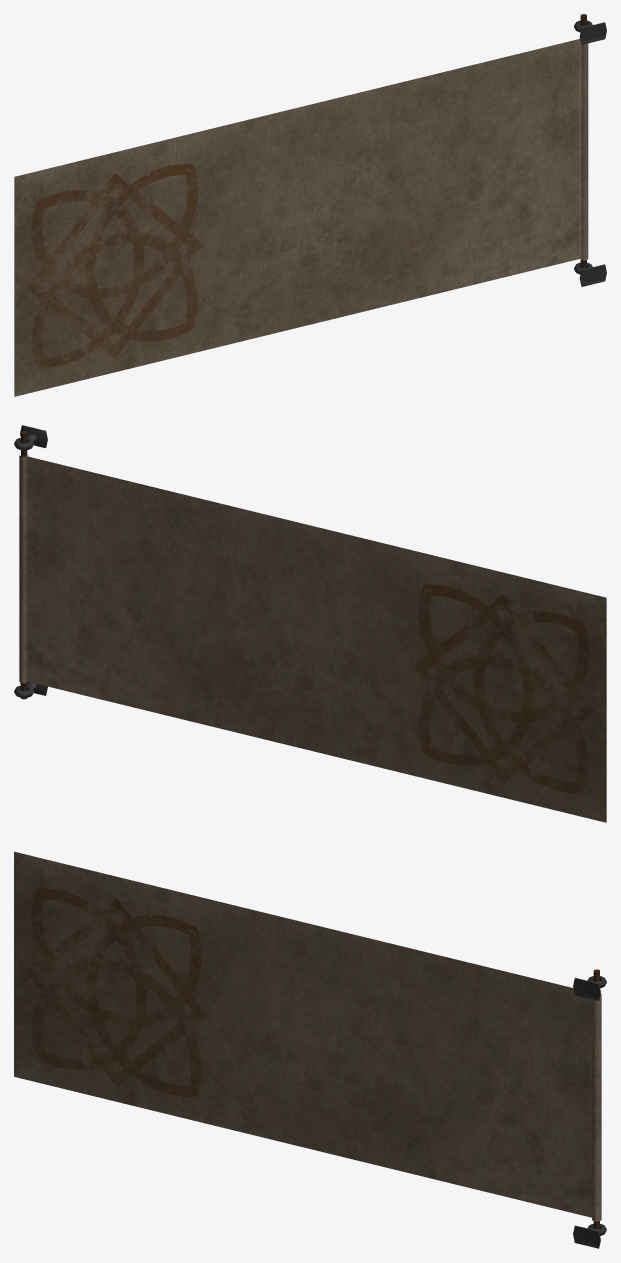
File: HangingFlag.glb
The picture shows the model from 3 angles, top to bottom: view 1: azimuth 30°, elevation 25°; view 2: azimuth 150°, elevation 25°; view 3: azimuth 330°, elevation 25°; orthographic projection. The views are drawn at different scales.
Visible parts, largest first — view 1: Flag1, PoleHolder1; view 2: Flag1, PoleHolder1; view 3: Flag1, PoleHolder1.
Part boxes in pixels (x1,y1,x2,y2): Flag1: (14,37,588,396); PoleHolder1: (574,20,606,286); Flag1: (19,454,606,822); PoleHolder1: (14,425,47,697); Flag1: (14,851,601,1221); PoleHolder1: (573,976,606,1248).
Bounding box in the file's own units: 6.1 × 2.61 × 0.2704.
3 materials, 3 textured.
